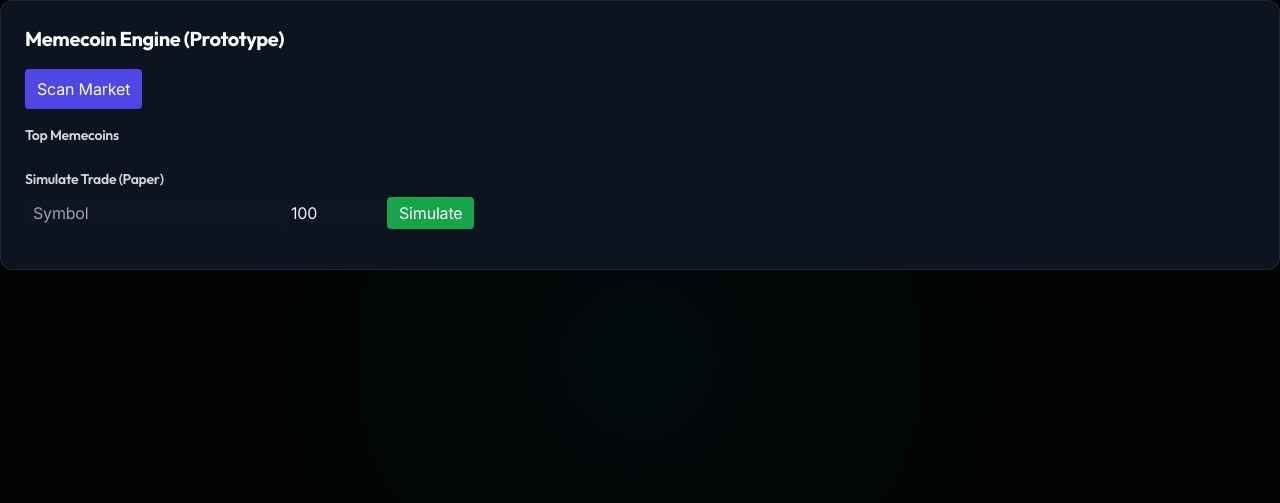
Test: MemecoinHub › scans and simulates
Click the button "Scan Market": (84, 89) [25, 69, 142, 109]
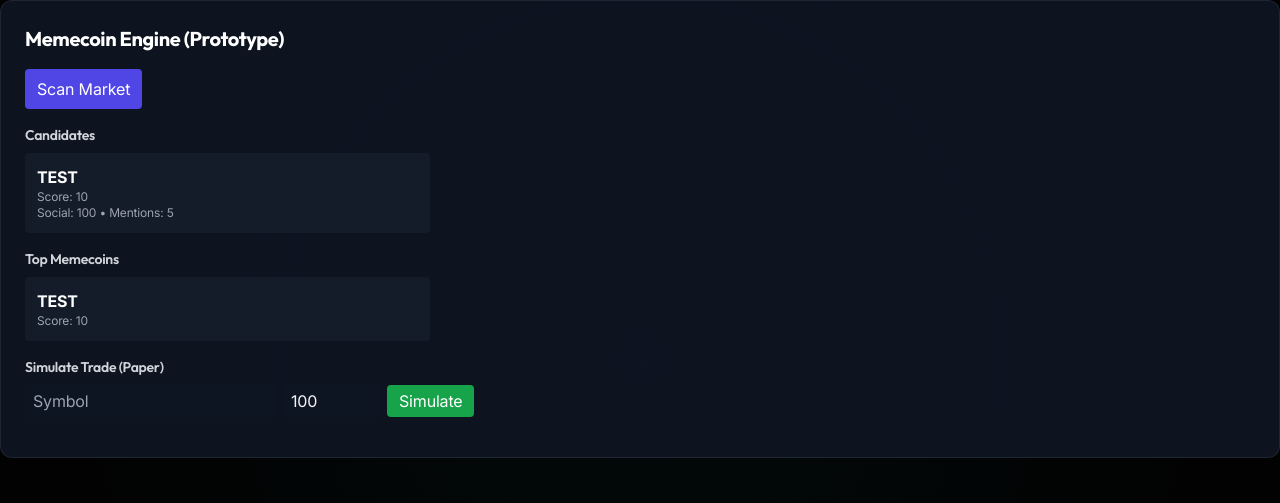
Expected: the text "TEST" below "Candidates" is shown, [37, 167, 78, 187]
Simulate trade
In the field with placeholder "Symbol": (150, 401) [25, 385, 275, 417], type "TEST"
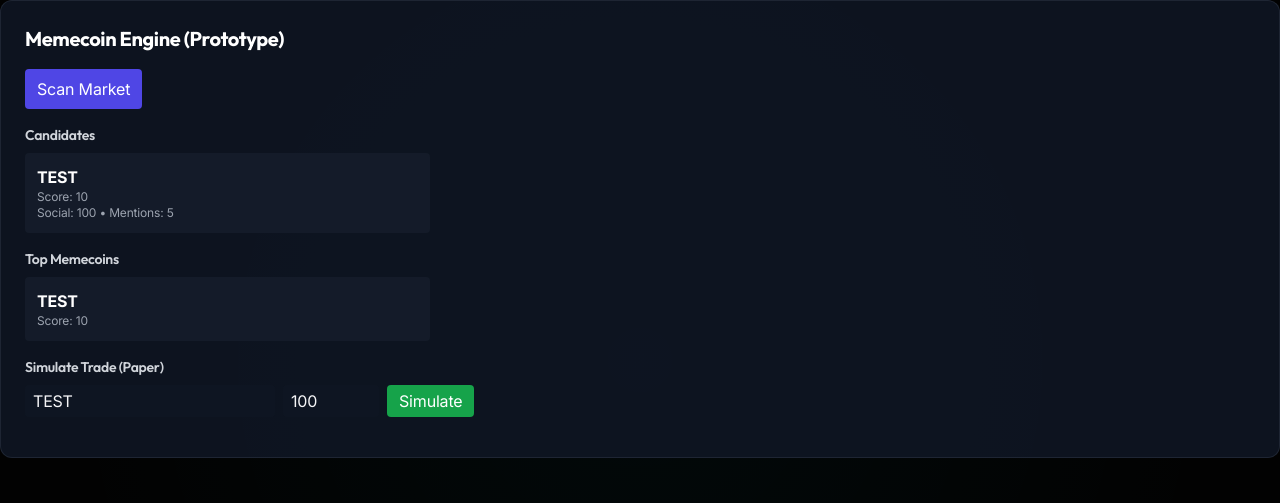
Click the button "Simulate": (431, 401) [387, 385, 474, 417]
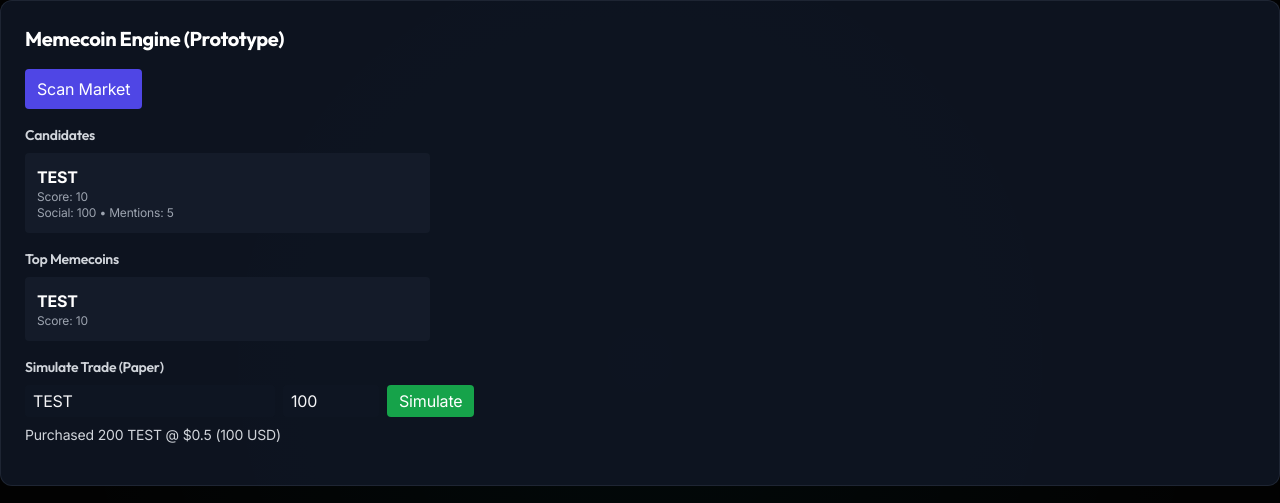
Expected: the text "Purchased 200 TEST @ $0.5 (100 USD)" is shown, [25, 426, 281, 443]
